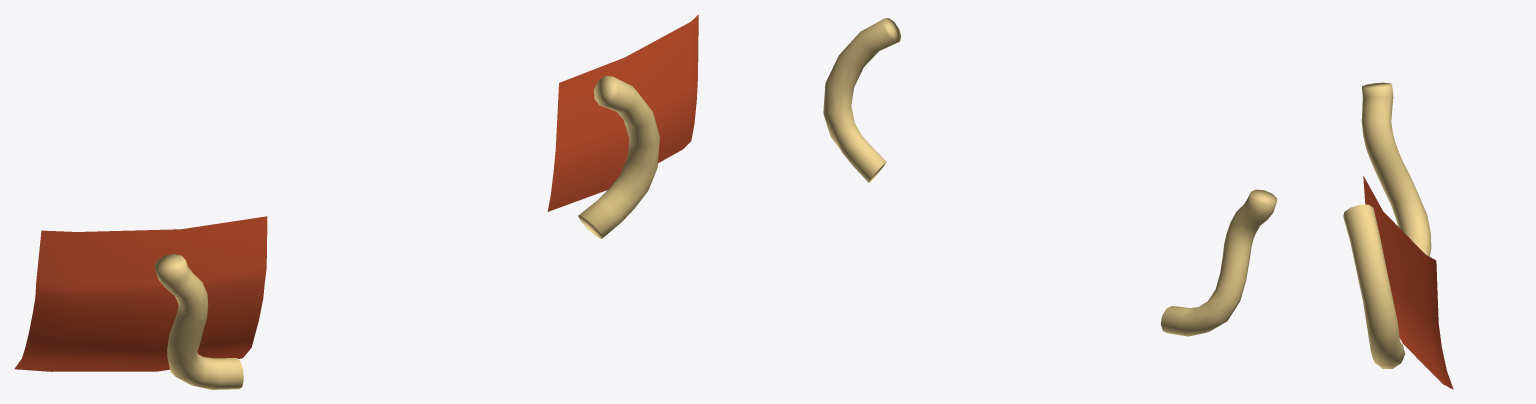
The model's file is AccessoryMouthPasta.glb.
3 renders of one model, left to right at view 1: azimuth 30°, elevation 25°; view 2: azimuth 150°, elevation 25°; view 3: azimuth 270°, elevation 25°, orthographic. The views are drawn at different scales.
Parts seen in each view (by area): view 1: Accessory__mAccessory; view 2: Accessory__mAccessory; view 3: Accessory__mAccessory.
Boxes of the visible parts, x1,y1,x2,y2 form: Accessory__mAccessory: (14, 14, 698, 389); Accessory__mAccessory: (823, 18, 1277, 336); Accessory__mAccessory: (1343, 82, 1453, 389).
Size of the model in its own units: 3.44 by 1.26 by 0.8468.
Materials: 1 (1 with a texture image).
